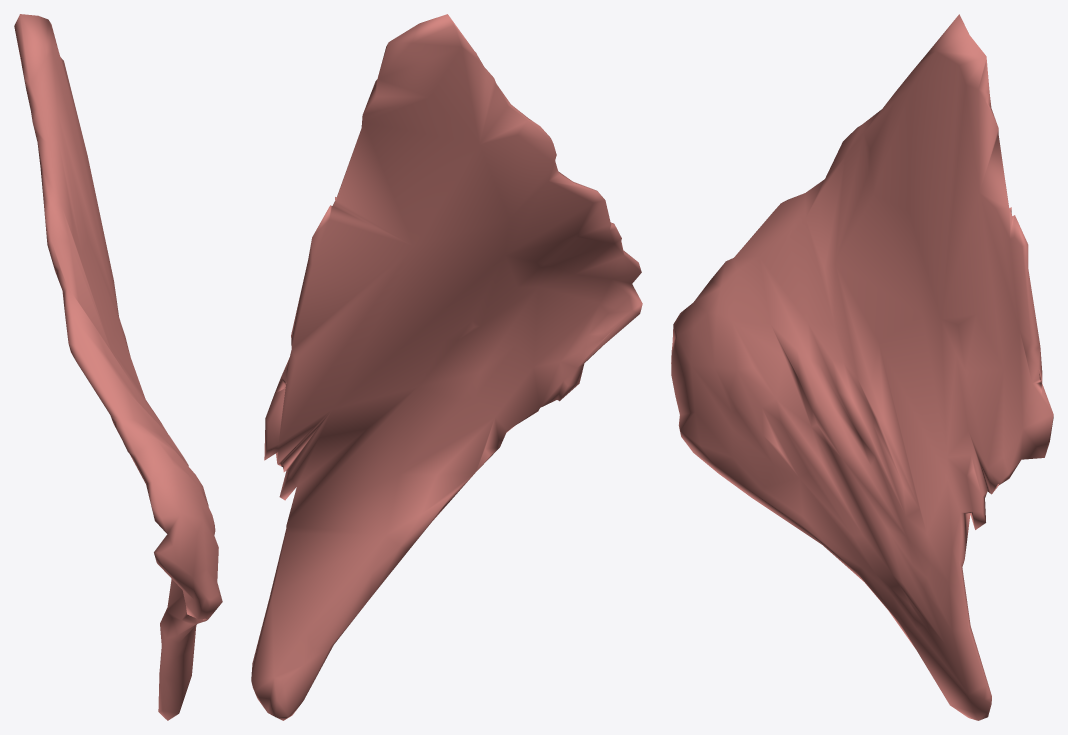
3 views of the same model, side by side, from view 1: azimuth 30°, elevation 25°; view 2: azimuth 150°, elevation 25°; view 3: azimuth 270°, elevation 25° (orthographic). The views are drawn at different scales.
Visible parts, largest first — view 1: ZA_5c6186fd412fd8a3; view 2: ZA_5c6186fd412fd8a3; view 3: ZA_5c6186fd412fd8a3.
Part boxes in pixels (x1,y1,x2,y2): ZA_5c6186fd412fd8a3: (14,14,222,720); ZA_5c6186fd412fd8a3: (251,14,642,720); ZA_5c6186fd412fd8a3: (671,14,1053,720).
Bounding box in the file's own units: 0.0133 × 0.0403 × 0.0218.
